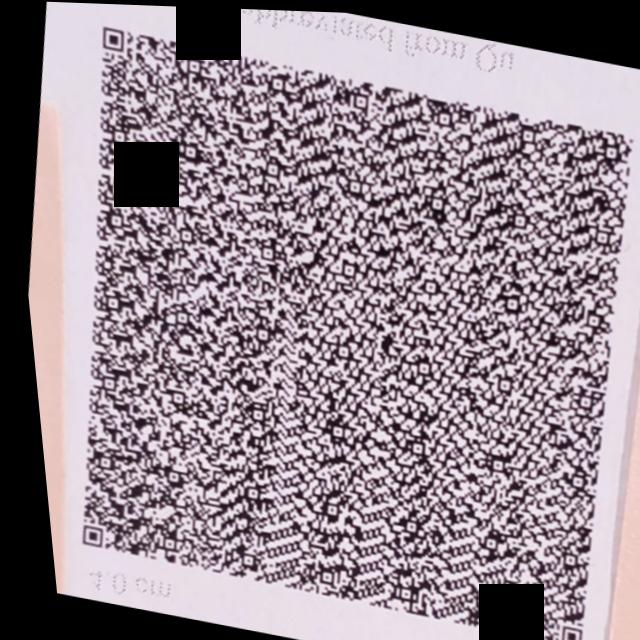QR_CODE: (0, 2, 640, 640)
